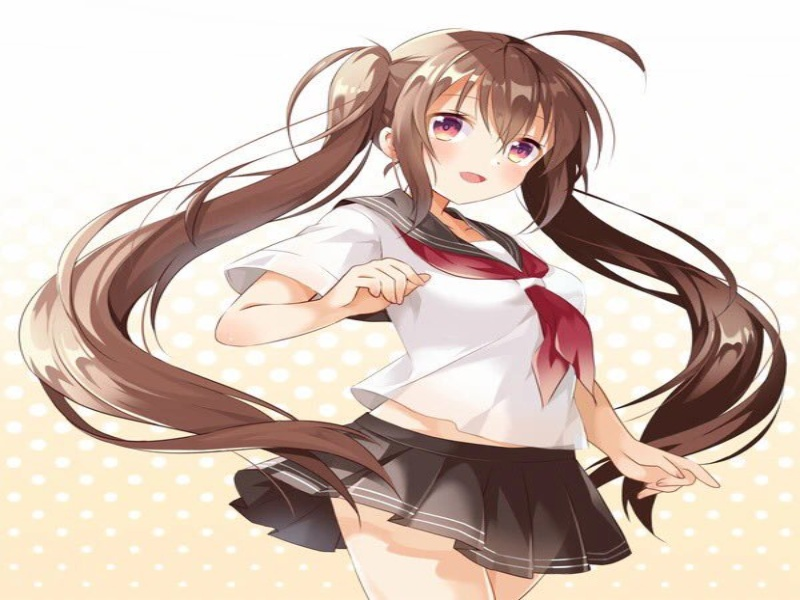dress: (225, 409, 671, 576)
person: (377, 49, 572, 220)
